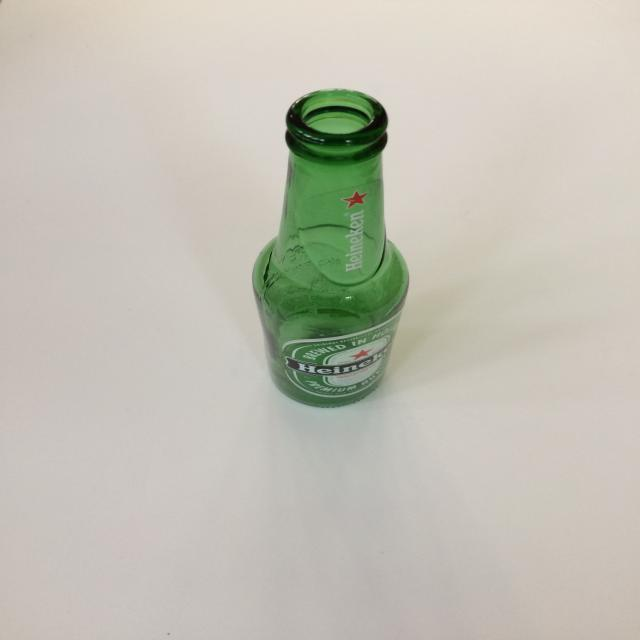glass: (251, 88, 411, 410)
